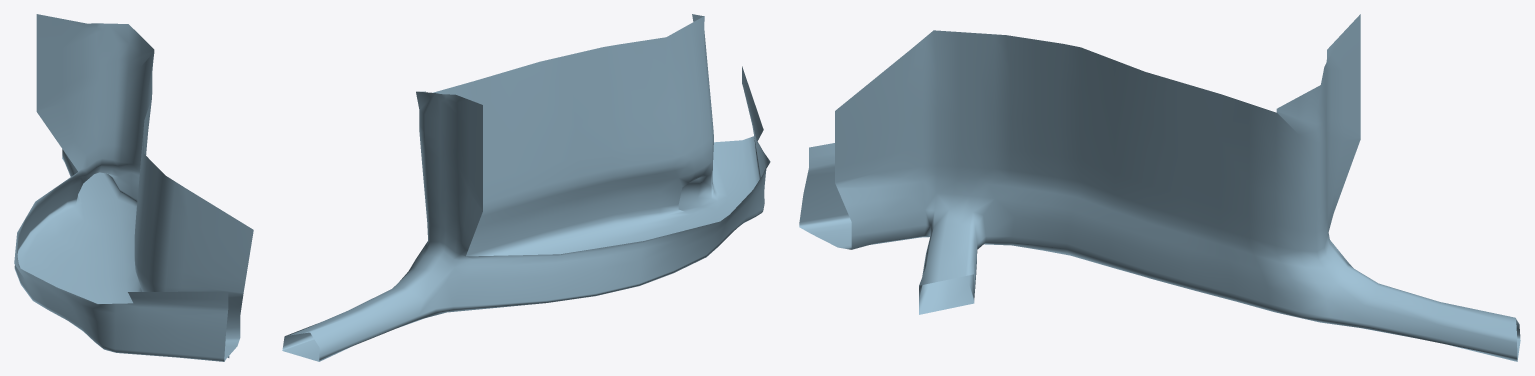
Rendered from terrain_W2A2.fbx.
3 renders of one model, left to right at view 1: azimuth 30°, elevation 25°; view 2: azimuth 150°, elevation 25°; view 3: azimuth 270°, elevation 25°, orthographic. The views are drawn at different scales.
Visible parts, largest first — view 1: W2A2_mesh; view 2: W2A2_mesh; view 3: W2A2_mesh.
Boxes of the visible parts, x1=… form: W2A2_mesh: x1=14, y1=14, x2=253, y2=361; W2A2_mesh: x1=282, y1=14, x2=770, y2=361; W2A2_mesh: x1=799, y1=14, x2=1520, y2=361.
Size of the model in its own units: 9624 by 8462 by 19212.
